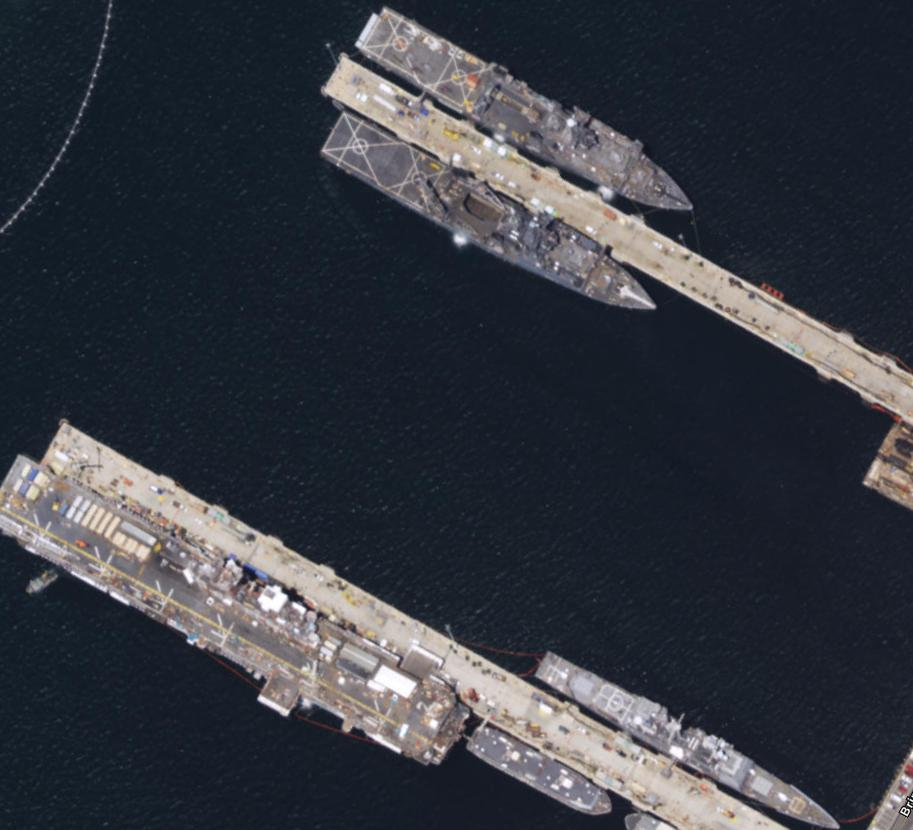amphiby: (345, 4, 710, 217), (320, 106, 662, 322)
